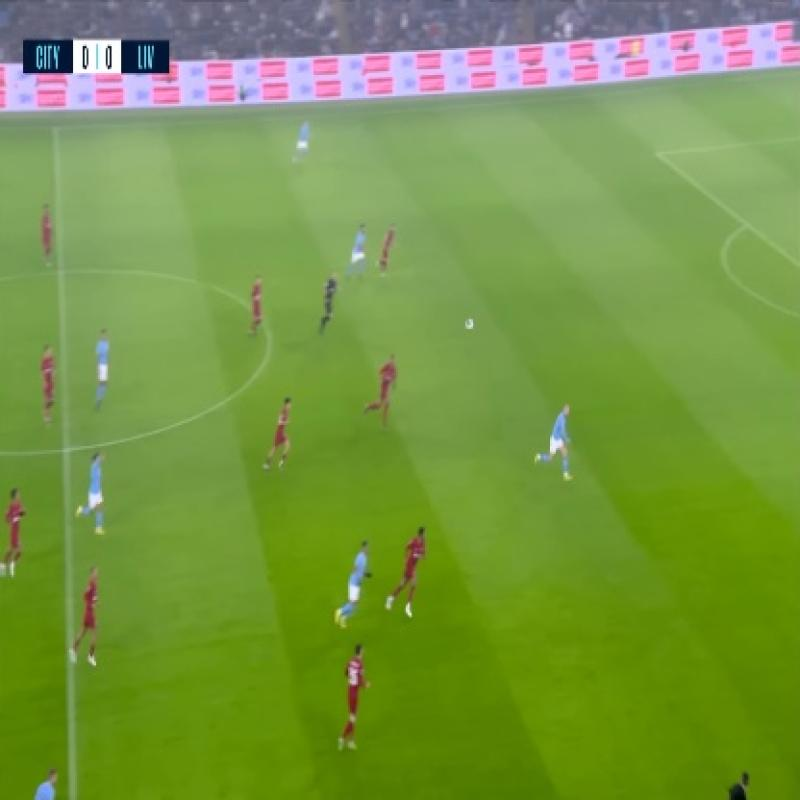10: (738, 212, 754, 233)
13: (46, 120, 64, 142)
14: (48, 255, 73, 282)
15: (52, 428, 79, 472)
9: (648, 144, 664, 164)
c: (257, 320, 287, 354)
